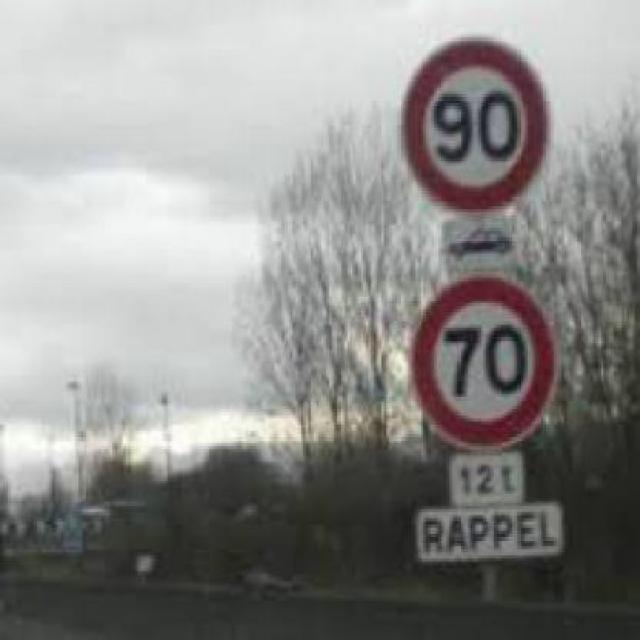Ograniczenie predkosci do 90: (401, 41, 549, 211)
